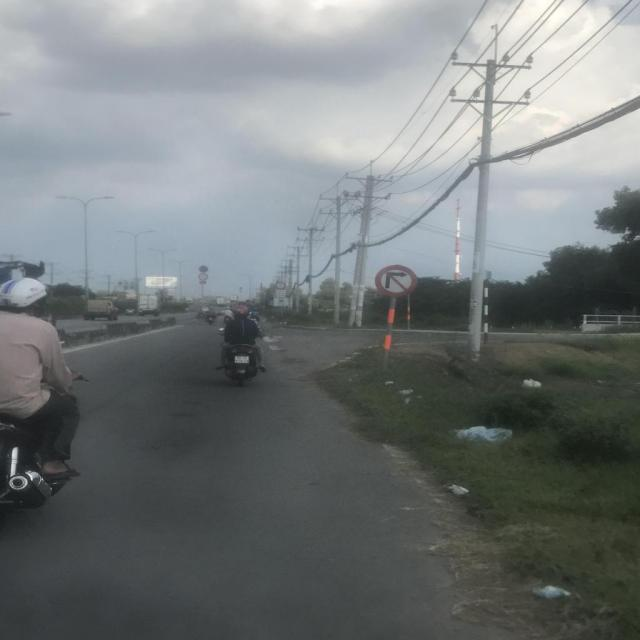cam_dung_xe_va_do_xe: (200, 265, 208, 273)
cam_o_to_tai_va_xe_khach: (276, 282, 286, 289)
cam_re_phai: (374, 265, 418, 297)
cam_xe_2_banh_va_xe_3_banh_co_dong_co: (198, 273, 208, 281)
khac: (274, 298, 288, 306), (275, 290, 287, 298)
